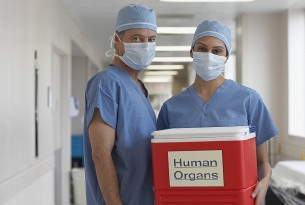Mask: (190, 42, 229, 80)
